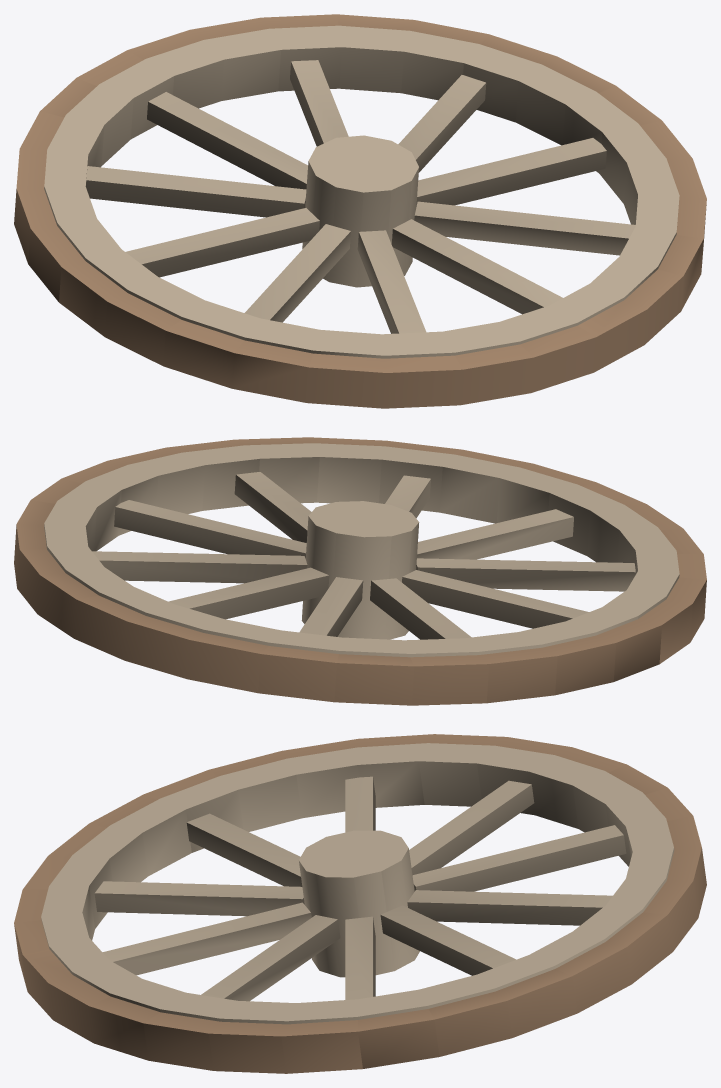
Rendered from cart_wheel.glb.
3 views of the same model, one above another, from view 1: azimuth 30°, elevation 25°; view 2: azimuth 150°, elevation 25°; view 3: azimuth 270°, elevation 25° (orthographic).
Parts seen in each view (by area): view 1: static; view 2: static; view 3: static.
Part boxes in pixels (x1,y1,x2,y2): static: (14, 14, 706, 408); static: (14, 437, 706, 705); static: (14, 734, 706, 1073).
Bounding box in the file's own units: 1 × 0.1804 × 0.9999.
